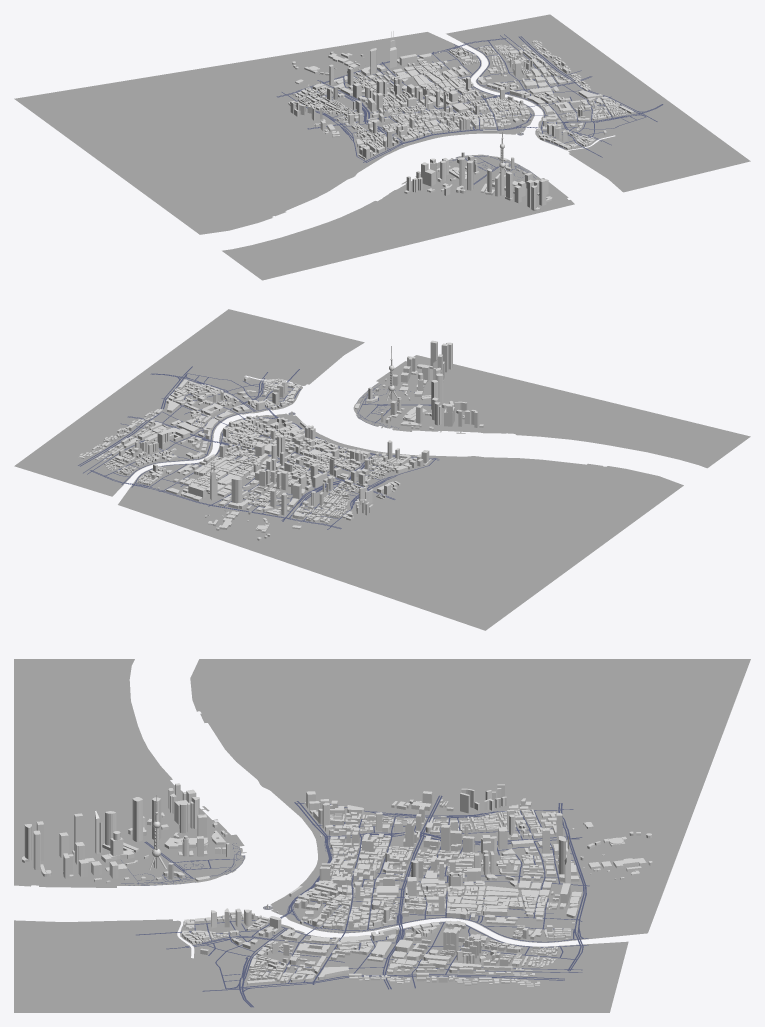
Rendered from shanghaiDraco.gltf.
3 views of the same model, one above another, from view 1: azimuth 30°, elevation 25°; view 2: azimuth 150°, elevation 25°; view 3: azimuth 270°, elevation 25° (orthographic). The views are drawn at different scales.
Visible parts, largest first — view 1: LANDMASS, CITY_UNTRIANGULATED, ROADS; view 2: LANDMASS, CITY_UNTRIANGULATED, ROADS; view 3: LANDMASS, CITY_UNTRIANGULATED, ROADS.
Part boxes in pixels (box(x1,y1,x2,y2)): LANDMASS: box(14, 14, 750, 280); CITY_UNTRIANGULATED: box(288, 31, 634, 210); ROADS: box(276, 34, 663, 184); LANDMASS: box(14, 309, 750, 630); CITY_UNTRIANGULATED: box(79, 340, 483, 540); ROADS: box(78, 366, 439, 529); LANDMASS: box(14, 659, 750, 1012); CITY_UNTRIANGULATED: box(22, 783, 652, 986); ROADS: box(121, 795, 589, 1007).
Bounding box in the file's own units: 4027 × 400 × 3545.
